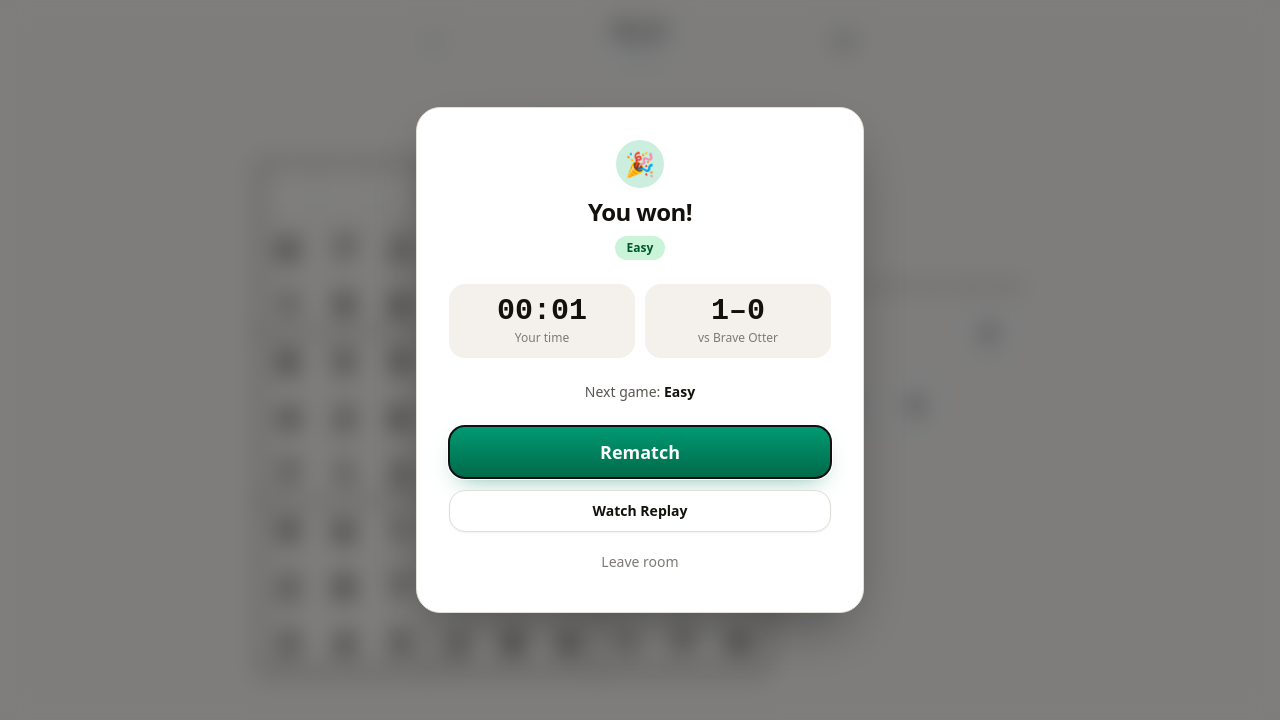
it: MultiplayerBoard after opponent wins › opens the replay of both boards from the result
Click the button "Watch Replay": [640, 511] box left=449, top=490, right=831, bottom=532
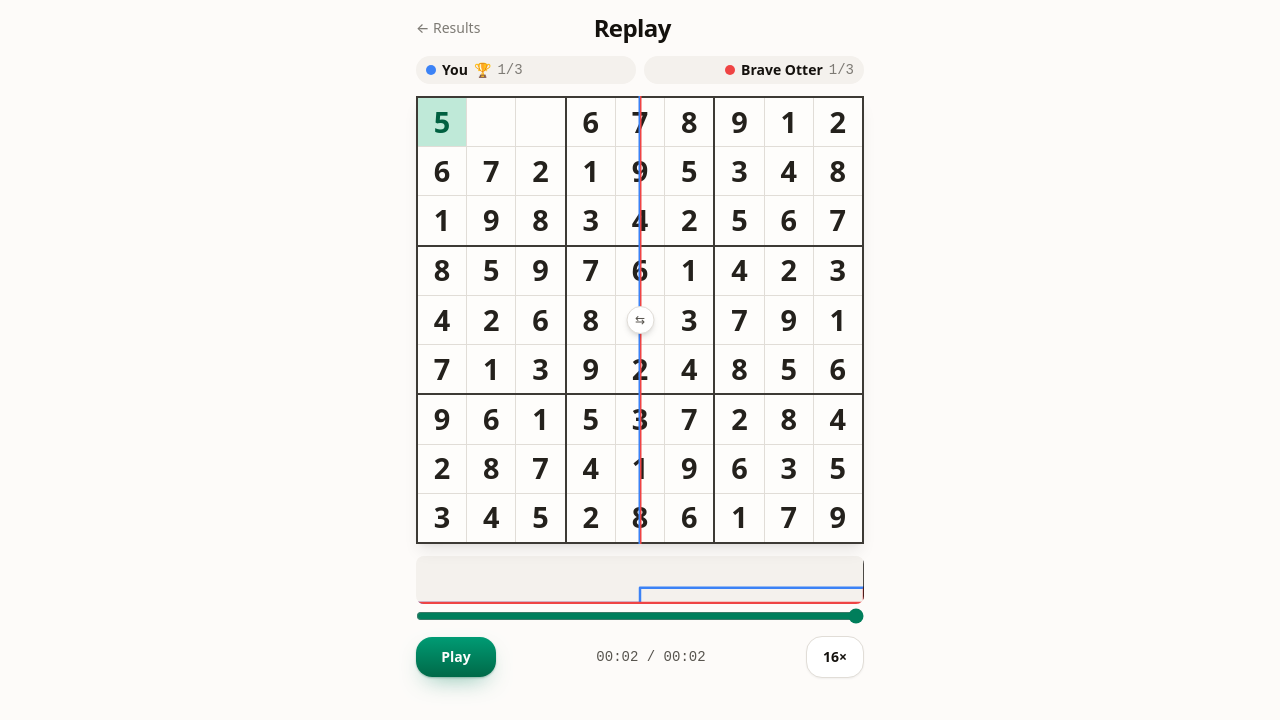
Check: the element named "Board: Brave Otter" is shown, box left=416, top=96, right=864, bottom=544
Click the button "← Results": [448, 28] box left=416, top=18, right=480, bottom=38
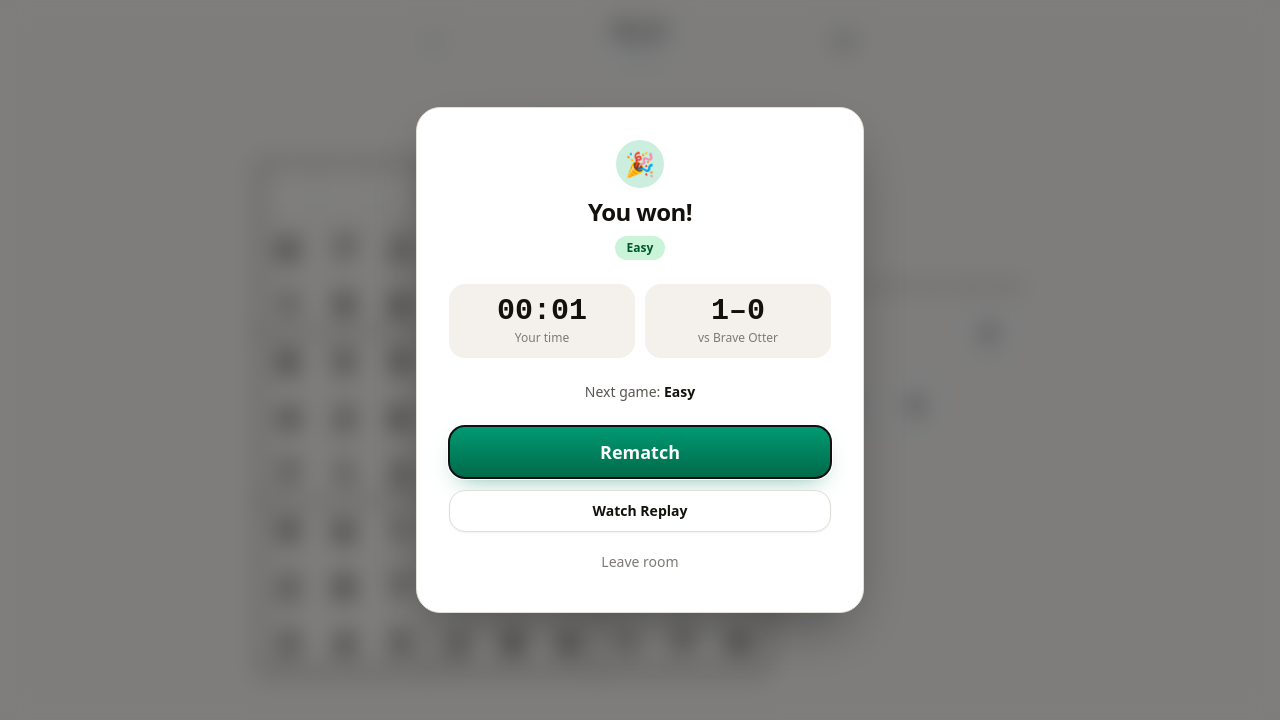
Check: the heading "You won!" is shown, box left=588, top=196, right=692, bottom=228
